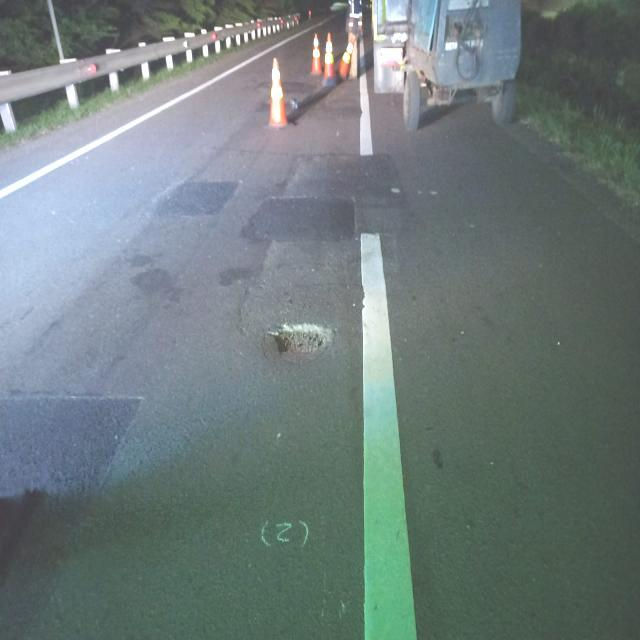Buraco: (263, 320, 341, 358)
